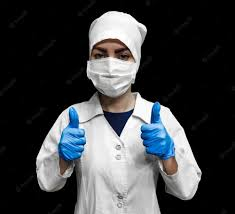with_mask_and_cap: (88, 14, 141, 96)
